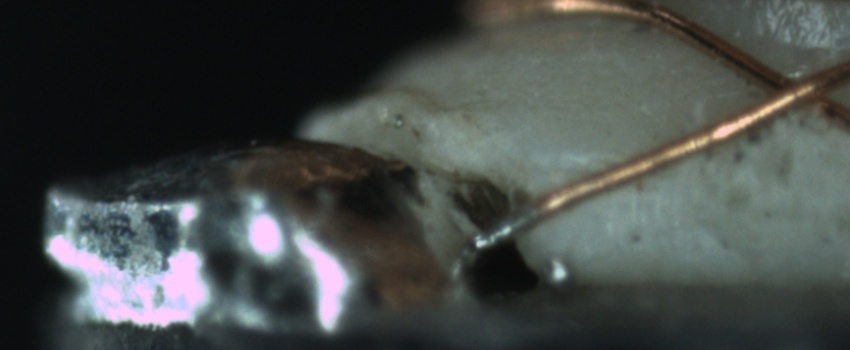CL: (739, 54, 844, 125)
TS: (468, 203, 542, 256)
